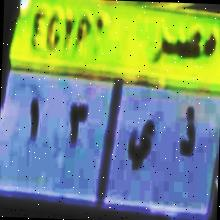1: (21, 89, 46, 148)
3: (64, 89, 96, 156)
yaa: (125, 110, 158, 173)
zaal: (177, 106, 200, 162)
